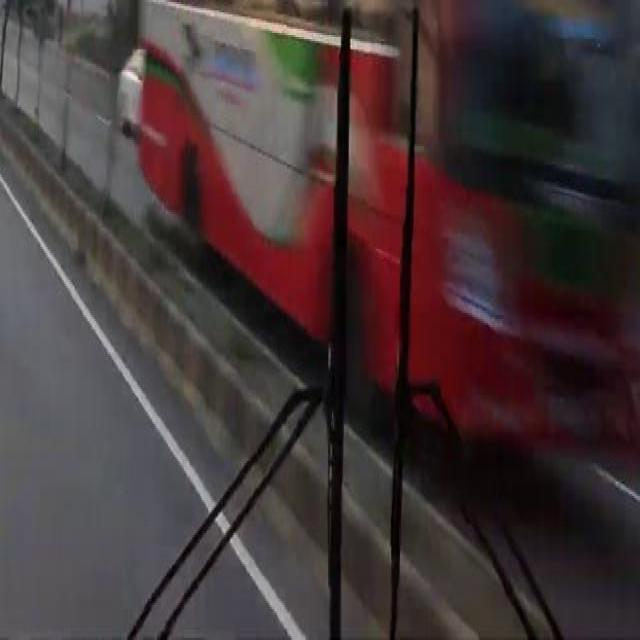vehicle: (143, 1, 639, 464), (113, 44, 143, 139)
